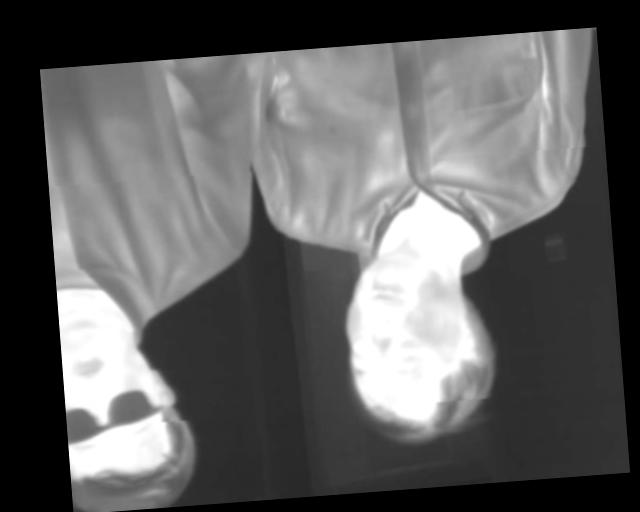face: (340, 250, 499, 451), (59, 313, 197, 512)
